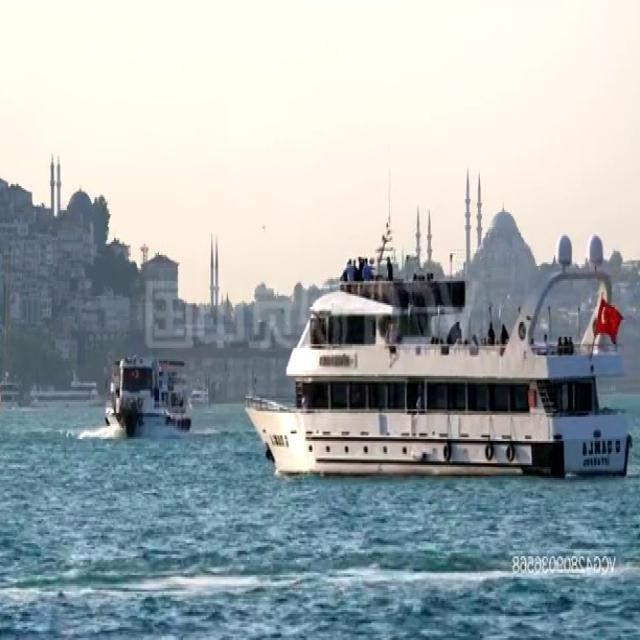passenger ship: (248, 233, 634, 483), (105, 349, 194, 435)
